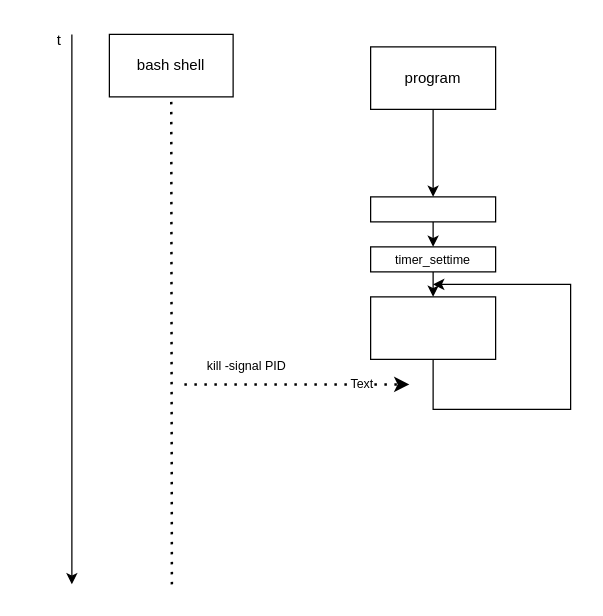
This 603x616 diagram has some shape labels left out. Each missing label, with the centre of its shape:
infinite loop{ nanosleep }: point 432,327
time_create: point 432,209
